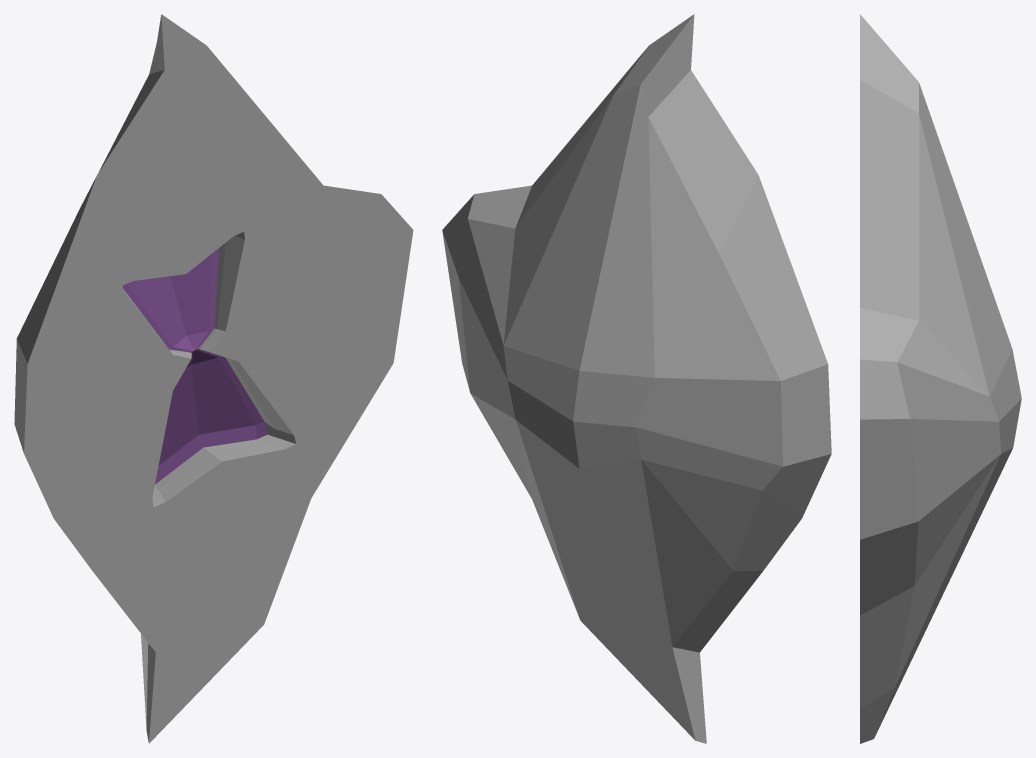
Rendered from timerock.fbx.
The picture shows the model from 3 angles, left to right: view 1: azimuth 30°, elevation 25°; view 2: azimuth 150°, elevation 25°; view 3: azimuth 270°, elevation 25°; orthographic projection.
Parts seen in each view (by area): view 1: TimeRock; view 2: TimeRock; view 3: TimeRock.
Part boxes in pixels (left/top/right/bottom): TimeRock: left=14, top=14, right=413, bottom=743; TimeRock: left=442, top=14, right=831, bottom=743; TimeRock: left=860, top=14, right=1021, bottom=743.
Size of the model in its own units: 1.52 by 2.72 by 0.541.
